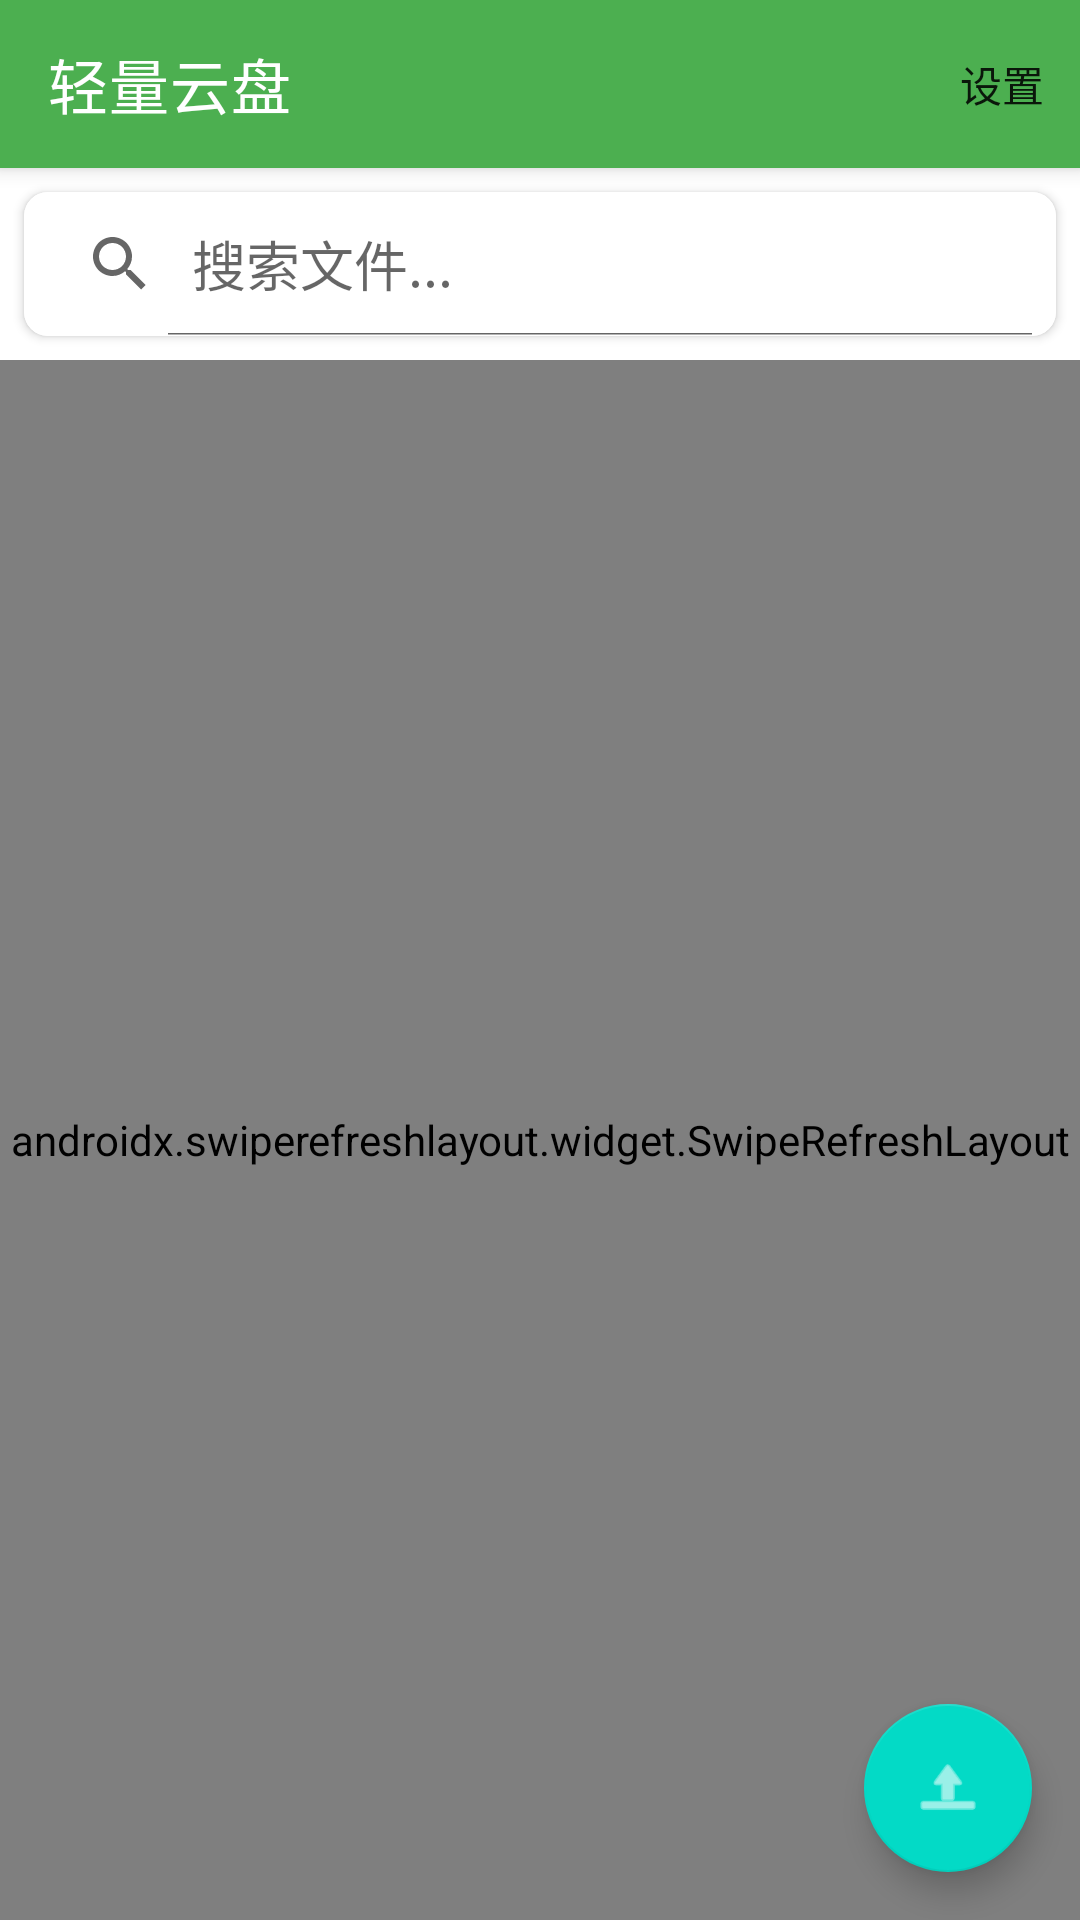

Locate icon controls on the screen. Image size 1080 × 1920, boxes as (x1, y1, x2, y2).
upload: (864, 1704, 1032, 1872)
